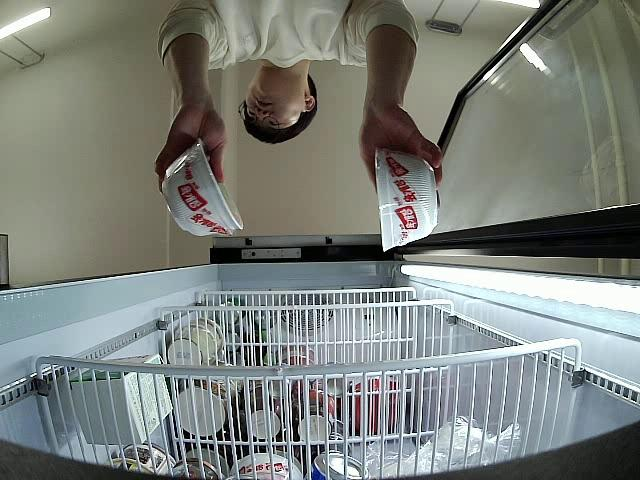00_hand: (358, 104, 444, 191), (154, 102, 226, 190)
09_yukGaeJang: (161, 139, 243, 235), (374, 144, 440, 254)
